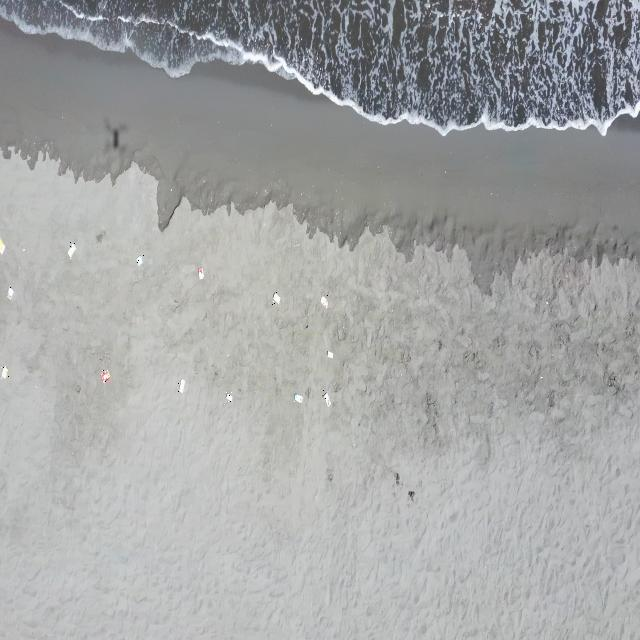Garbage: (100, 368, 110, 382), (68, 241, 75, 258), (293, 392, 303, 403), (323, 391, 329, 406), (320, 295, 327, 307), (196, 267, 203, 279), (272, 292, 279, 303), (136, 253, 143, 264), (178, 380, 184, 392), (0, 367, 7, 377), (407, 489, 413, 500), (0, 238, 4, 253), (327, 468, 332, 480), (226, 392, 232, 402), (8, 286, 12, 300), (395, 472, 399, 484), (327, 350, 332, 357), (20, 247, 23, 252)
